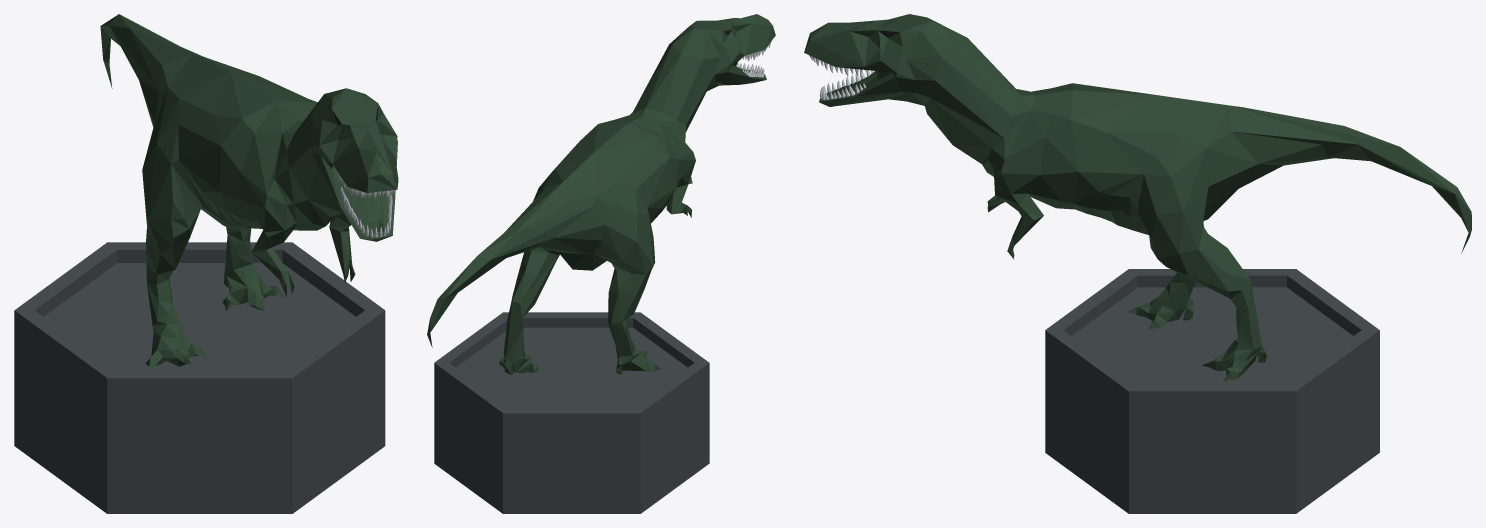
Rendered from Building_Objects_Dinosaur.fbx.
The picture shows the model from 3 angles, left to right: view 1: azimuth 30°, elevation 25°; view 2: azimuth 150°, elevation 25°; view 3: azimuth 270°, elevation 25°; orthographic projection. The views are drawn at different scales.
Visible parts, largest first — view 1: Building_Objects_Dinosaur; view 2: Building_Objects_Dinosaur; view 3: Building_Objects_Dinosaur.
Boxes of the visible parts, x1,y1,x2,y2 form: Building_Objects_Dinosaur: (14, 14, 398, 513); Building_Objects_Dinosaur: (427, 14, 775, 513); Building_Objects_Dinosaur: (804, 14, 1471, 513).
Size of the model in its own units: 259 by 421 by 597.
